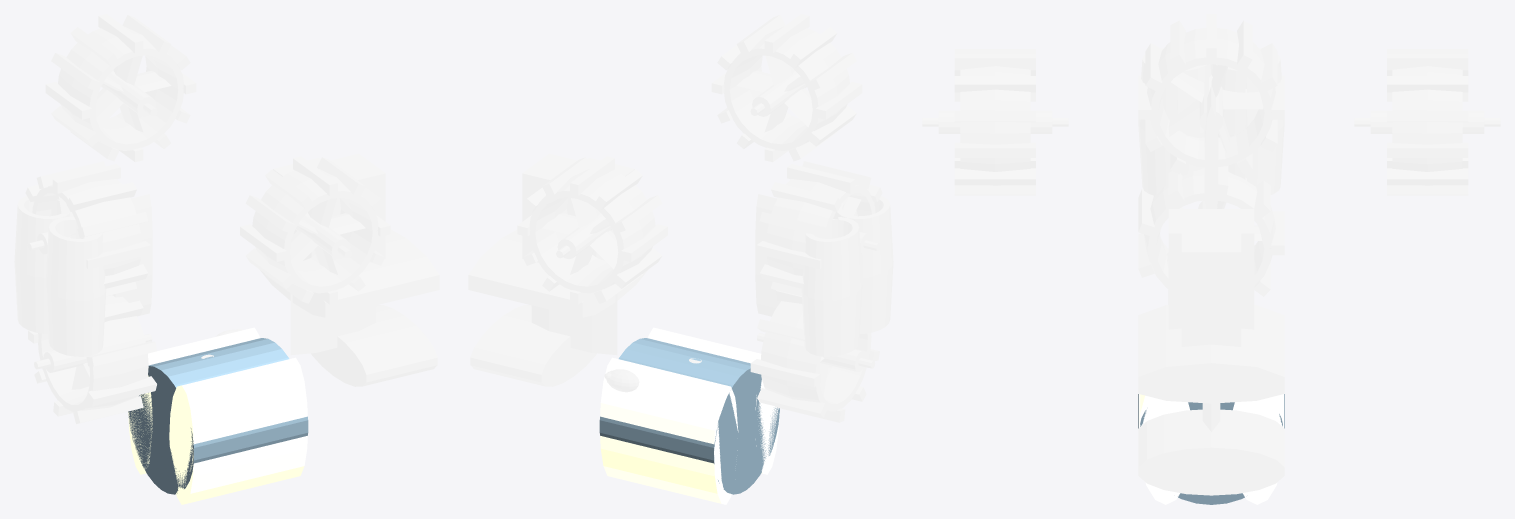
Rendered from maitre-horloge-v5.glb.
3 views of the same model, side by side, from view 1: azimuth 30°, elevation 25°; view 2: azimuth 150°, elevation 25°; view 3: azimuth 270°, elevation 25° (orthographic). The views are drawn at different scales.
Visible parts, largest first — view 1: maitre_horloge_lumieres.001, maitre_horloge_roue0.002, maitre_horloge_roue1.002, maitre_horloge_cle.002, maitre_horloge_roue3.002, maitre_horloge_roue2.002, maitre_horloge_balancier.002, maitre_horloge_heures.002, maitre_horloge_minutes.002; view 2: maitre_horloge_lumieres.001, maitre_horloge_roue1.002, maitre_horloge_roue0.002, maitre_horloge_cle.002, maitre_horloge_roue3.002, maitre_horloge_roue2.002, maitre_horloge_balancier.002, maitre_horloge_heures.002, maitre_horloge_minutes.002, maitre_horloge_corps.002; view 3: maitre_horloge_heures.002, maitre_horloge_roue2.002, maitre_horloge_roue0.002, maitre_horloge_roue1.002, maitre_horloge_balancier.002, maitre_horloge_minutes.002, maitre_horloge_cle.002, maitre_horloge_roue3.002, maitre_horloge_lumieres.001.
Part boxes in pixels (x1=…): maitre_horloge_lumieres.001: x1=128, y1=327, x2=308, y2=504; maitre_horloge_roue0.002: x1=45, y1=14, x2=196, y2=162; maitre_horloge_roue1.002: x1=240, y1=156, x2=390, y2=304; maitre_horloge_cle.002: x1=14, y1=194, x2=152, y2=356; maitre_horloge_roue3.002: x1=28, y1=295, x2=156, y2=424; maitre_horloge_roue2.002: x1=25, y1=161, x2=151, y2=296; maitre_horloge_balancier.002: x1=290, y1=293, x2=437, y2=386; maitre_horloge_heures.002: x1=264, y1=158, x2=439, y2=313; maitre_horloge_minutes.002: x1=259, y1=153, x2=439, y2=317; maitre_horloge_lumieres.001: x1=599, y1=327, x2=779, y2=504; maitre_horloge_roue1.002: x1=711, y1=14, x2=862, y2=162; maitre_horloge_roue0.002: x1=517, y1=156, x2=667, y2=304; maitre_horloge_cle.002: x1=755, y1=194, x2=893, y2=356; maitre_horloge_roue3.002: x1=750, y1=290, x2=879, y2=422; maitre_horloge_roue2.002: x1=756, y1=161, x2=882, y2=296; maitre_horloge_balancier.002: x1=470, y1=293, x2=617, y2=386; maitre_horloge_heures.002: x1=468, y1=158, x2=641, y2=313; maitre_horloge_minutes.002: x1=468, y1=153, x2=648, y2=317; maitre_horloge_corps.002: x1=604, y1=358, x2=701, y2=392; maitre_horloge_heures.002: x1=1138, y1=209, x2=1284, y2=403; maitre_horloge_roue2.002: x1=1138, y1=14, x2=1284, y2=174; maitre_horloge_roue0.002: x1=1354, y1=49, x2=1500, y2=195; maitre_horloge_roue1.002: x1=922, y1=49, x2=1068, y2=195; maitre_horloge_balancier.002: x1=1138, y1=403, x2=1284, y2=495; maitre_horloge_minutes.002: x1=1138, y1=227, x2=1284, y2=403; maitre_horloge_cle.002: x1=1138, y1=48, x2=1284, y2=208; maitre_horloge_roue3.002: x1=1138, y1=166, x2=1284, y2=304; maitre_horloge_lumieres.001: x1=1138, y1=394, x2=1284, y2=504.
Size of the model in its own units: 6.6 by 6.3 by 7.9.
